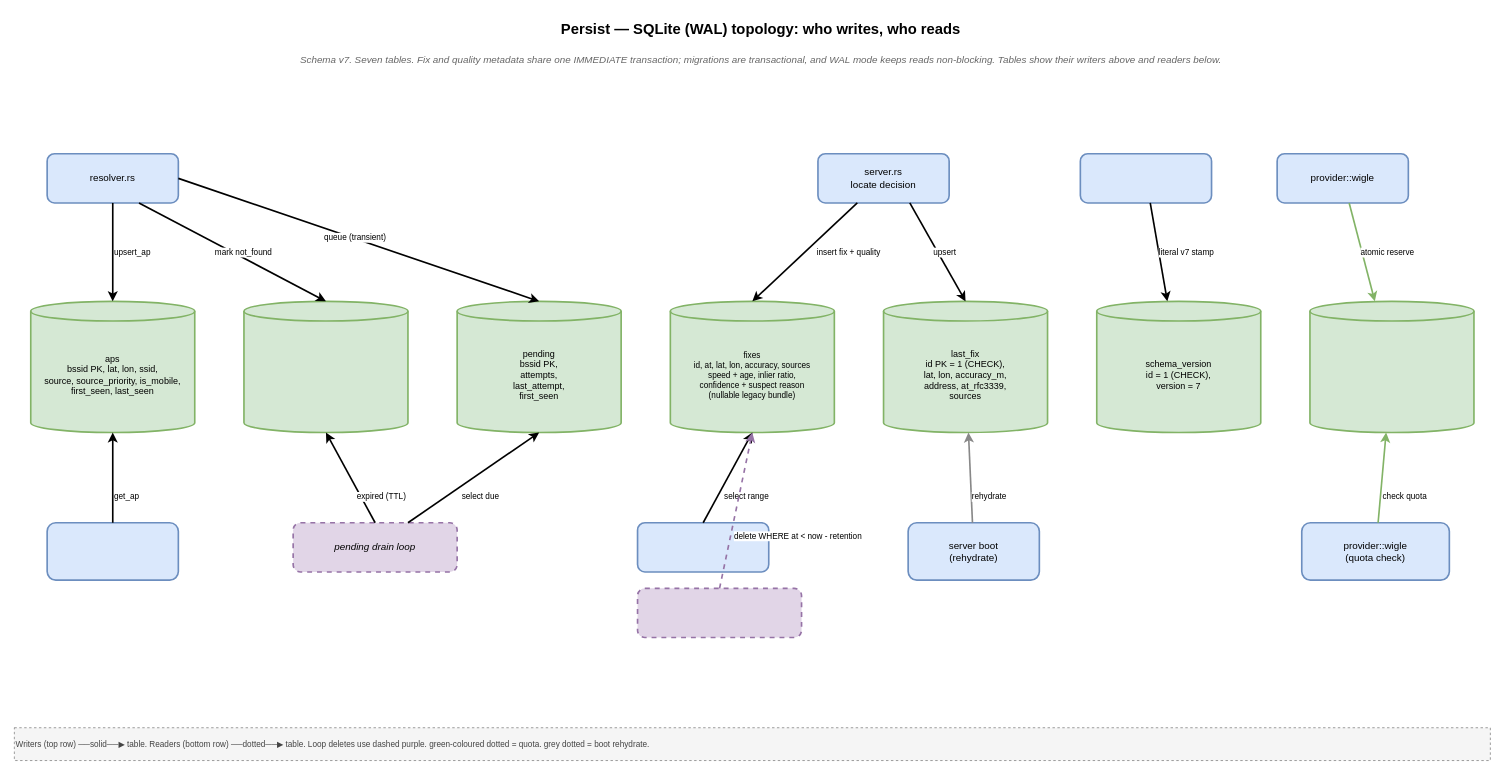
Some shapes in this 1505 by 775 pixel diagram are drawn without their labels. The centre of each missing label's shape, as x and y in pixels:
"db.rs migrations" goes at [1145,178].
"history prune loop" goes at [719,612].
"history.rs" goes at [702,547].
"metadata key TEXT PK, value TEXT (api_calls_today, quota_reset_at)" goes at [1391,366].
"not_found bssid PK, not_found_at, TTL revival" goes at [325,366].
"server.rs (locate)" goes at [112,551].
